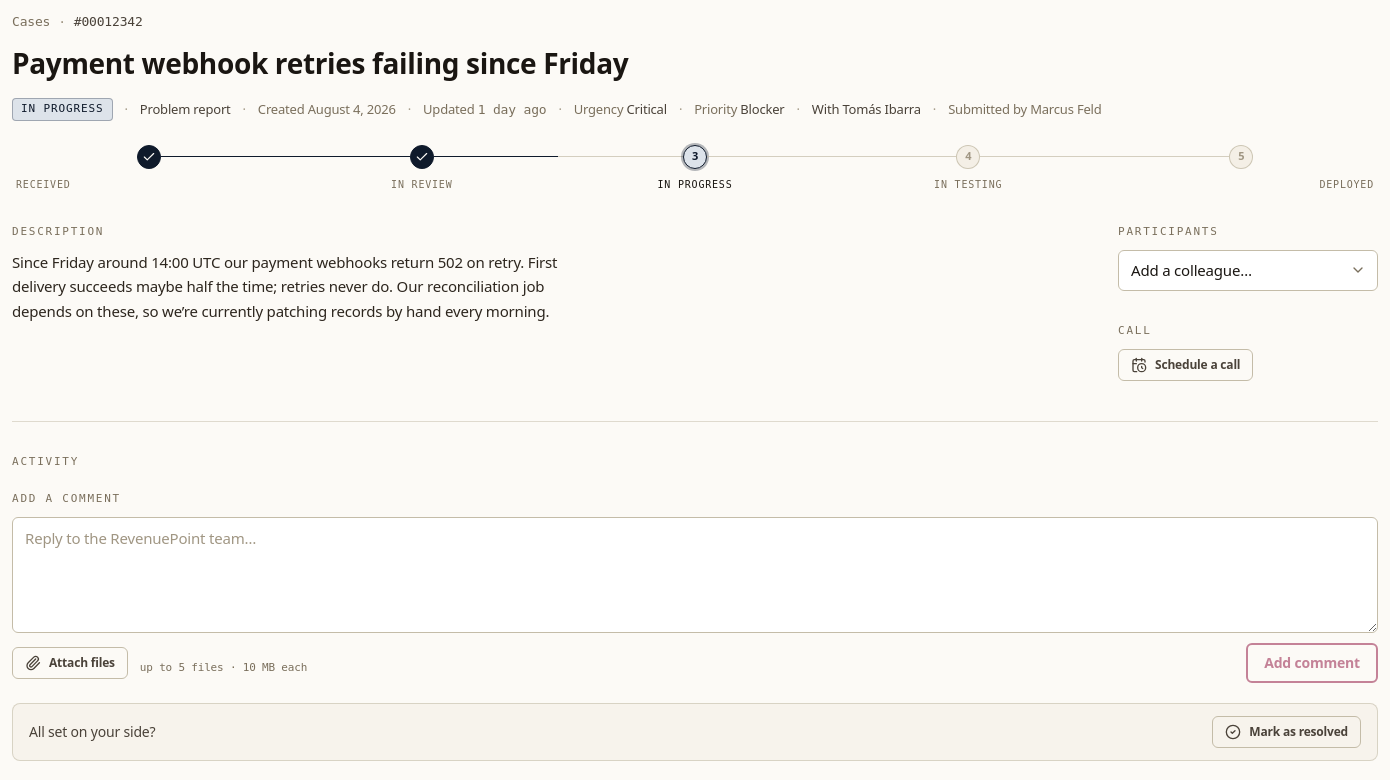
Scenario: CaseDetailPage › lets the client mark an open case resolved via a structured note
Expected: the heading "Payment webhook retries failing since Friday" is shown, [12, 44, 628, 82]
Click the button "Mark as resolved" at (1287, 732), box [1212, 716, 1361, 748]
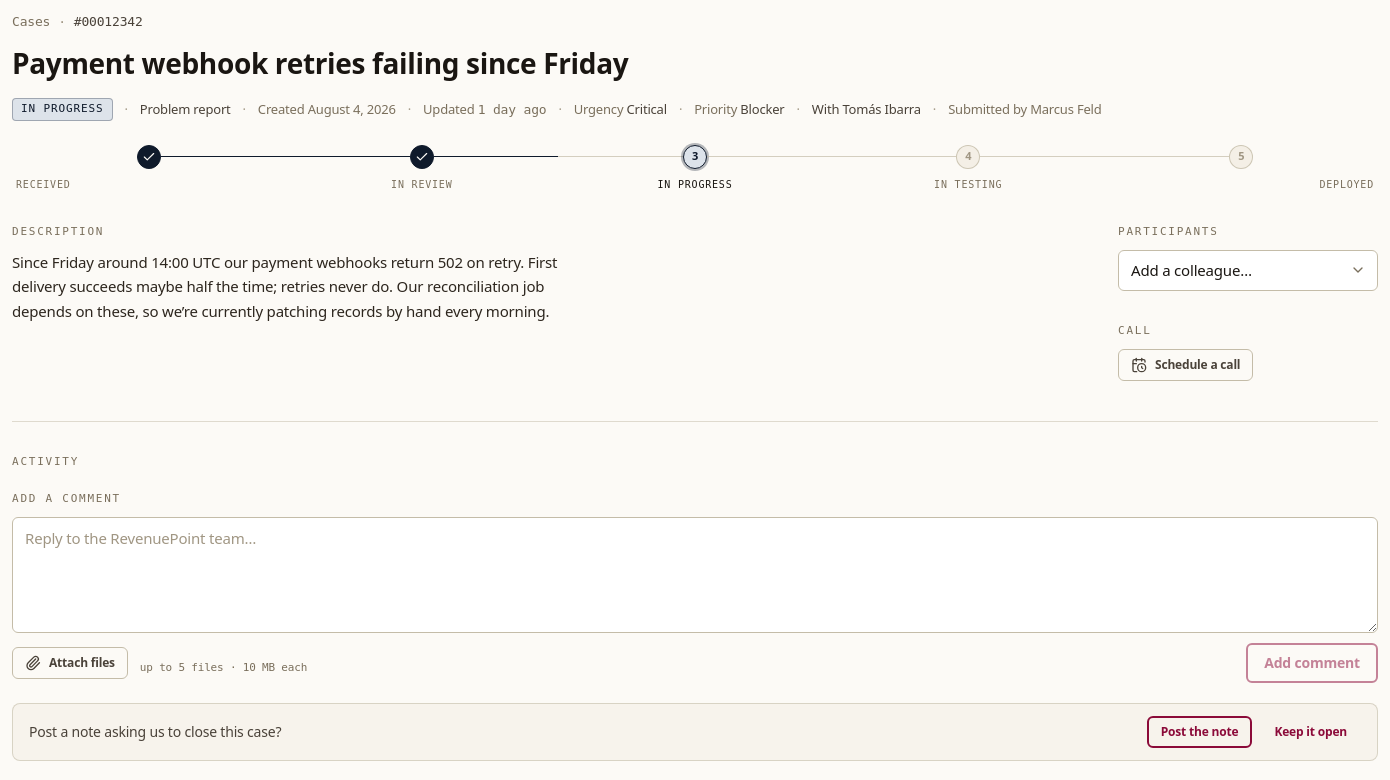
Click the button "Post the note" at (1200, 732), box [1147, 716, 1252, 748]
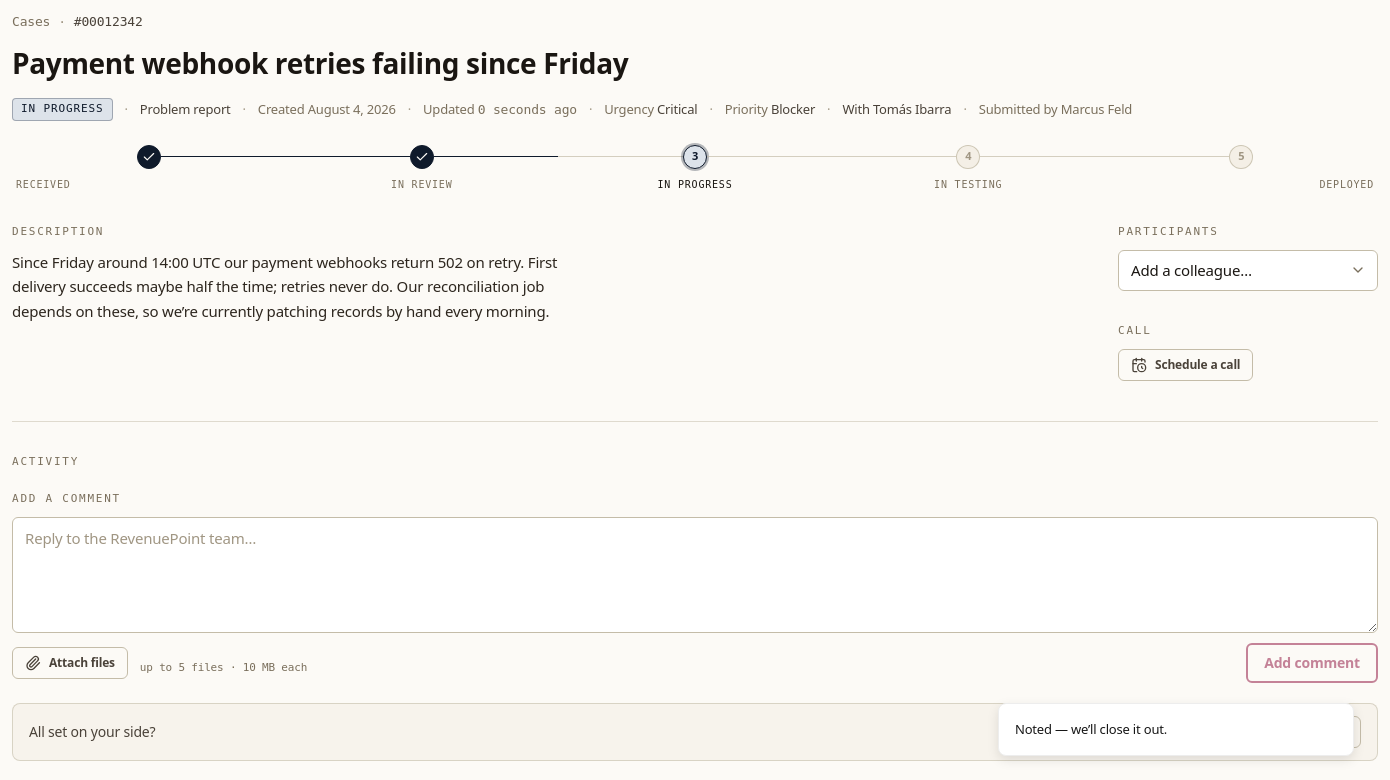
Expected: the button "Mark as resolved" is shown, [1212, 716, 1361, 748]
